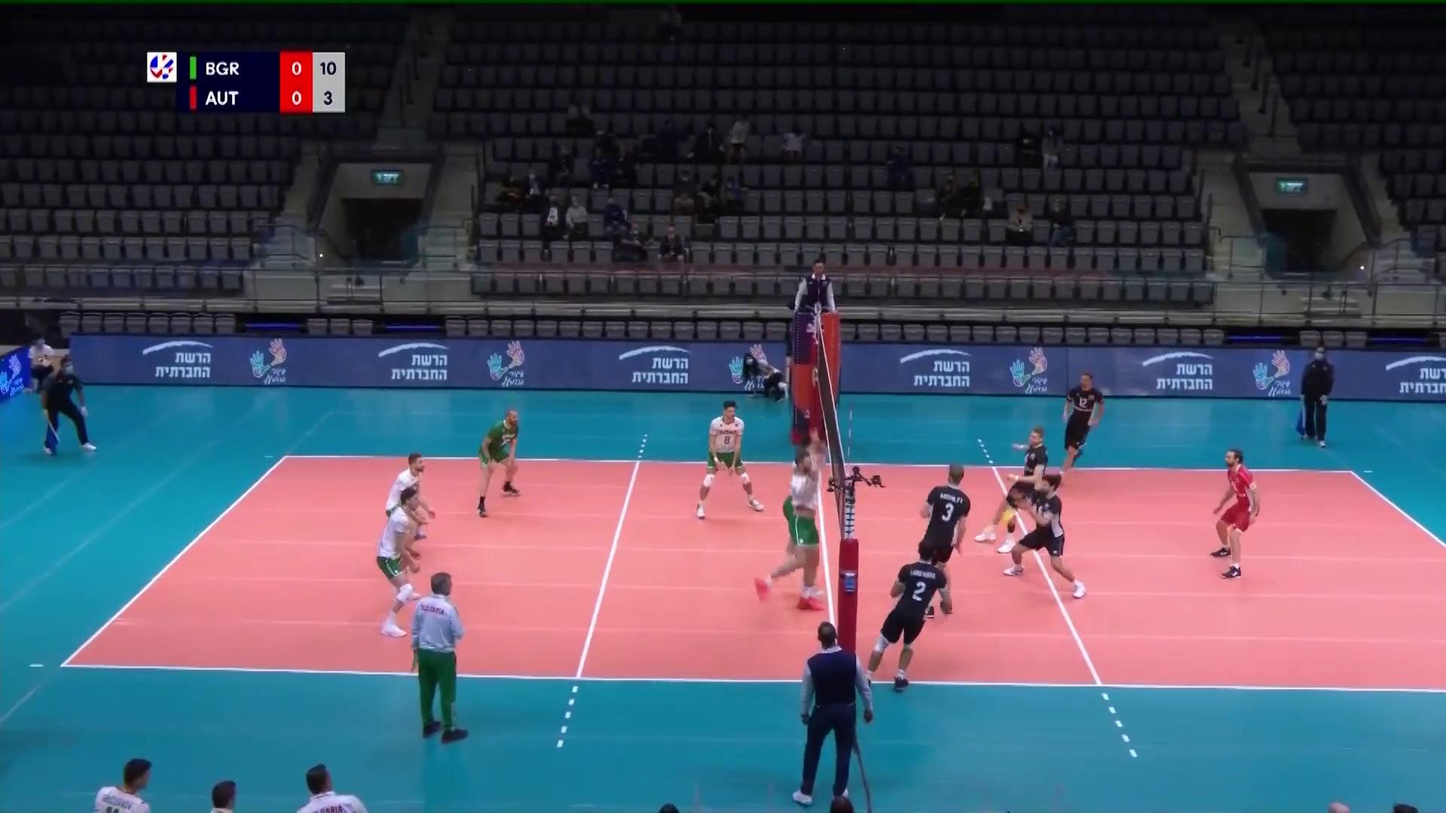ball: (1000, 508, 1016, 527)
